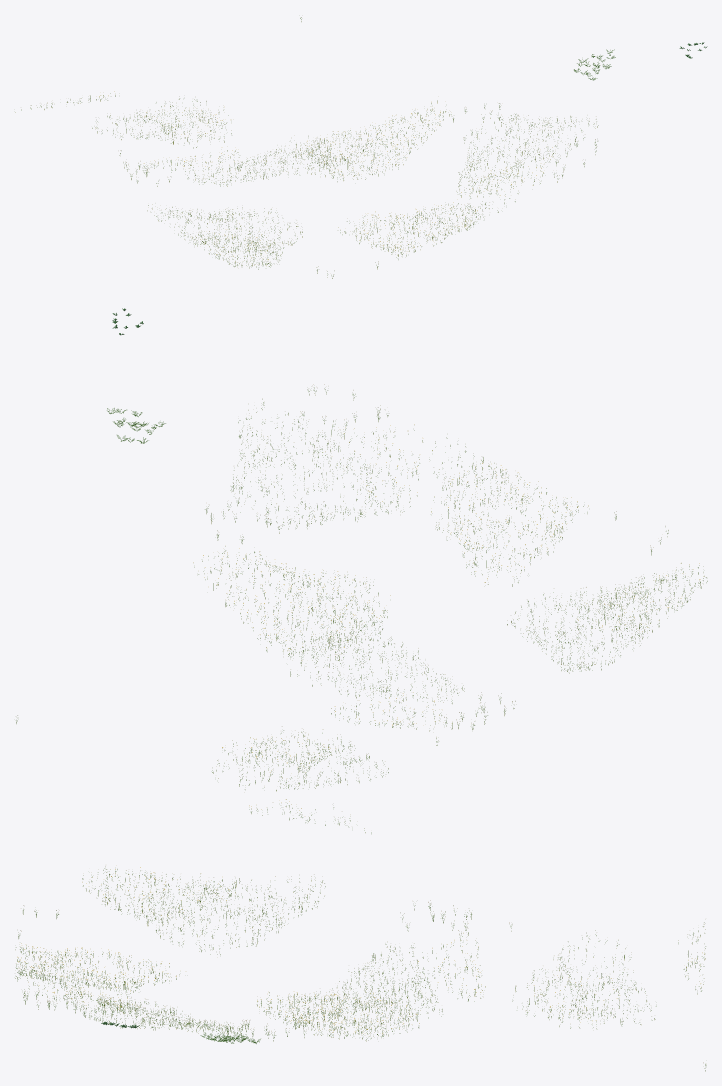
File: GroundCover_16_20.glb
3 views of the same model, one above another, from view 1: azimuth 30°, elevation 25°; view 2: azimuth 150°, elevation 25°; view 3: azimuth 270°, elevation 25° (orthographic). The views are drawn at different scales.
Parts seen in each view (by area): view 1: GroundCover_16_20; view 2: GroundCover_16_20; view 3: GroundCover_16_20.
Part boxes in pixels (left/top/right/bottom): GroundCover_16_20: left=15, top=17, right=707, bottom=278; GroundCover_16_20: left=16, top=308, right=707, bottom=833; GroundCover_16_20: left=15, top=866, right=706, bottom=1071.
Size of the model in its own units: 62.54 by 18.29 by 64.29.
1 material, 1 textured.
